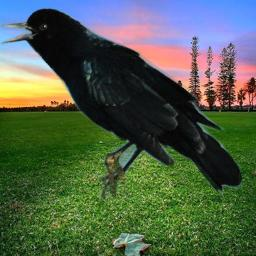Crow: (1, 8, 242, 201)
